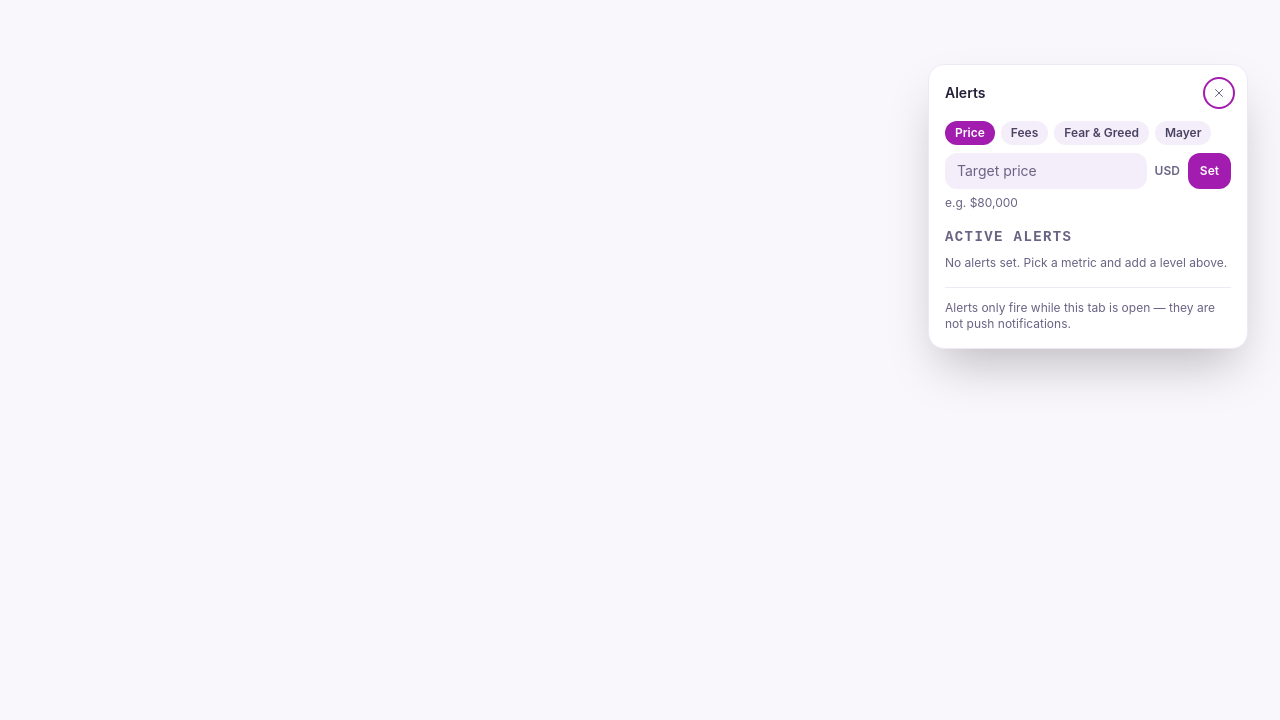
Test: PriceAlertsPanel metric picker › swaps the input copy and the unit slot to the chosen metric
Expected: the number field with placeholder "Target price" is shown, [945, 153, 1146, 189]
Expected: the text "USD" is shown, [1154, 163, 1180, 178]
What coordinates should you click on to do the following:
click the button "Fees"
I would click on:
 (1025, 133)
Its box is [1001, 121, 1048, 145].
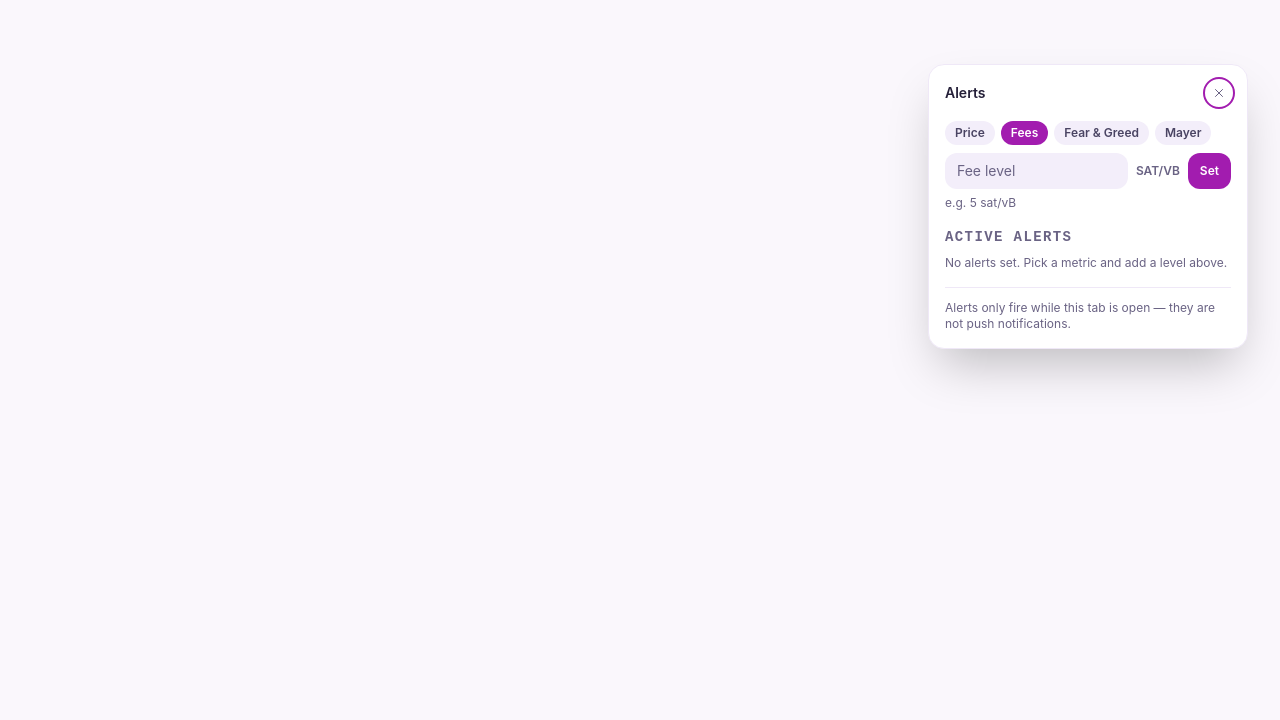
Expected: the number field with placeholder "Fee level" is shown, [945, 153, 1128, 189]
Expected: the text "sat/vB" is shown, [1136, 163, 1180, 178]
Expected: the text "USD" is gone
